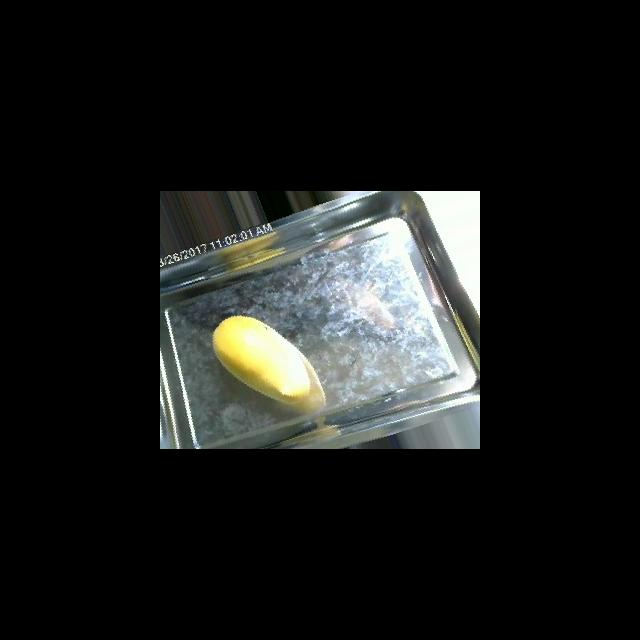Mango: (211, 314, 326, 414)
